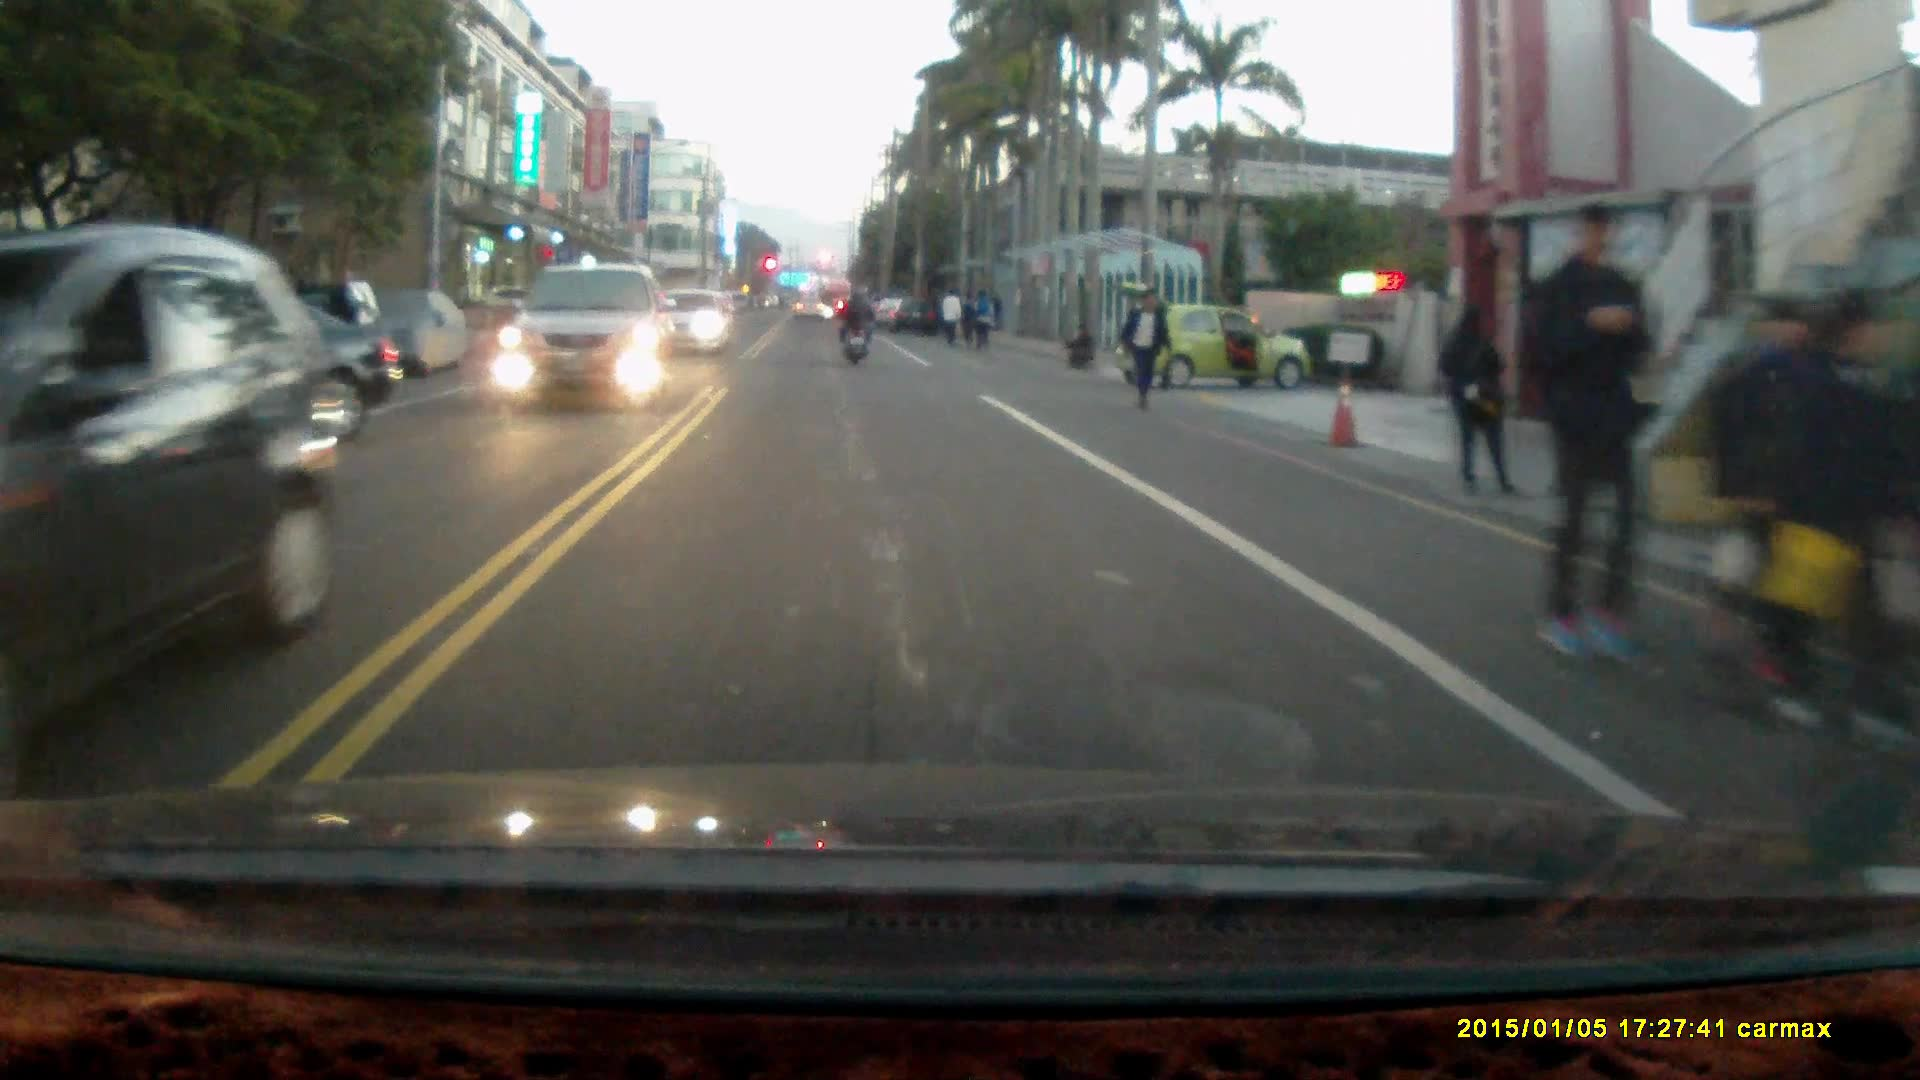pedestrian: (1758, 285, 1910, 752), (1529, 195, 1668, 671), (1435, 302, 1521, 503), (1117, 288, 1170, 412), (970, 288, 996, 354), (1064, 322, 1096, 369), (941, 286, 963, 351)
rider: (836, 286, 873, 366)
vehicle: (1, 222, 351, 718), (493, 266, 679, 408), (1116, 278, 1313, 392), (648, 290, 732, 357)
